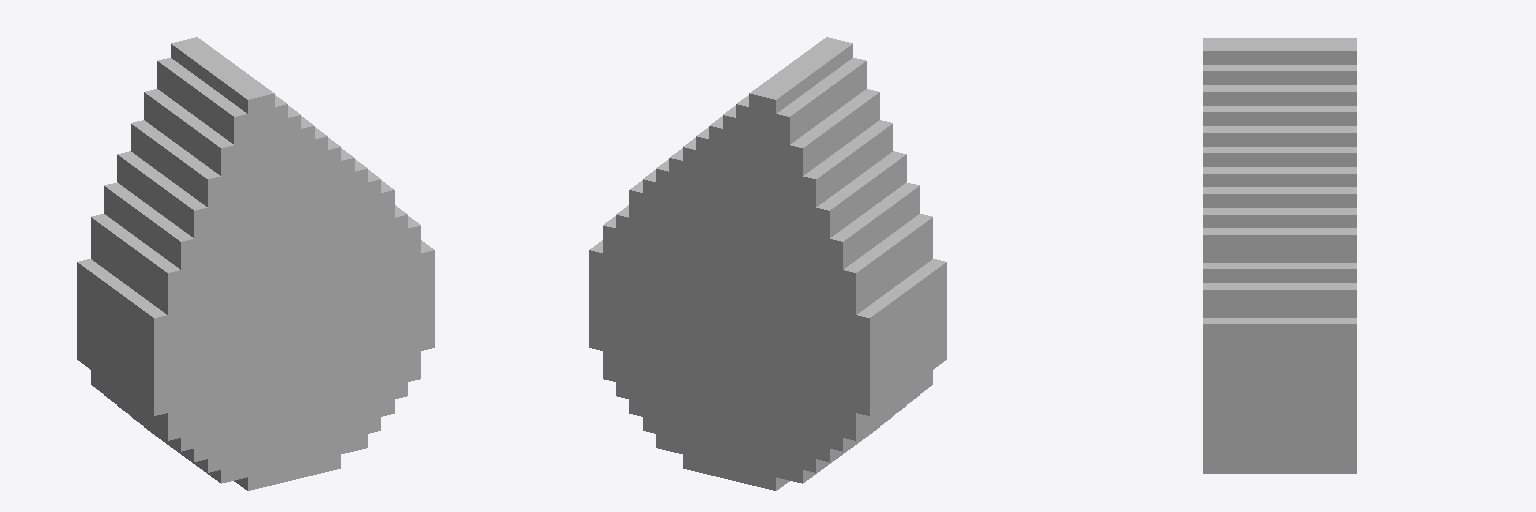
File: agua.obj
3 renders of one model, left to right at view 1: azimuth 30°, elevation 25°; view 2: azimuth 150°, elevation 25°; view 3: azimuth 270°, elevation 25°, orthographic.
Visible parts, largest first — view 1: object 1; view 2: object 1; view 3: object 1.
Boxes of the visible parts, <box> form: object 1: <box>77,37,434,490</box>; object 1: <box>589,37,946,490</box>; object 1: <box>1203,38,1356,473</box>.
Size of the model in its own units: 2.1 by 2.8 by 1.